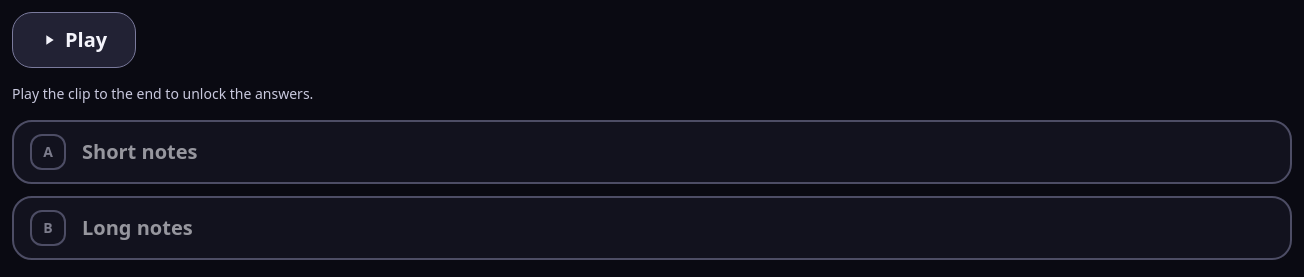
Scenario: ByEar: gating the options › does not count a clip that is still playing
The width and height of the screenshot is (1304, 277).
Click the button with aria-label "Play the clip" at (74, 40), box left=12, top=12, right=136, bottom=68
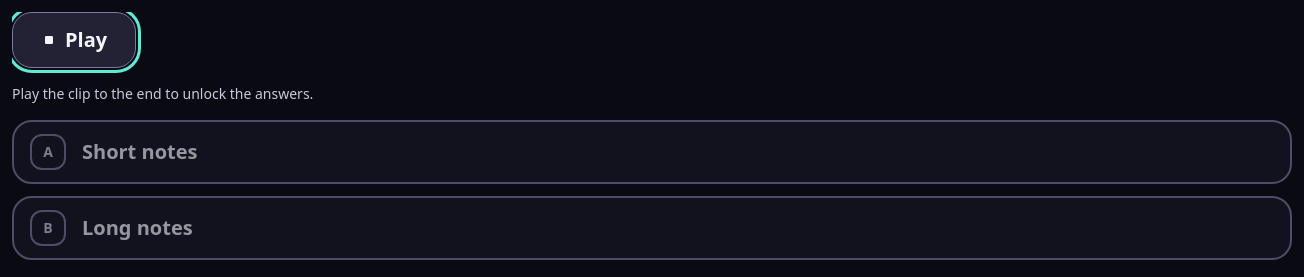
expect the button "A Short notes" is disabled: met, box left=12, top=120, right=1292, bottom=184
expect the button with aria-label "Stop the clip" is shown: met, box left=12, top=12, right=136, bottom=68
